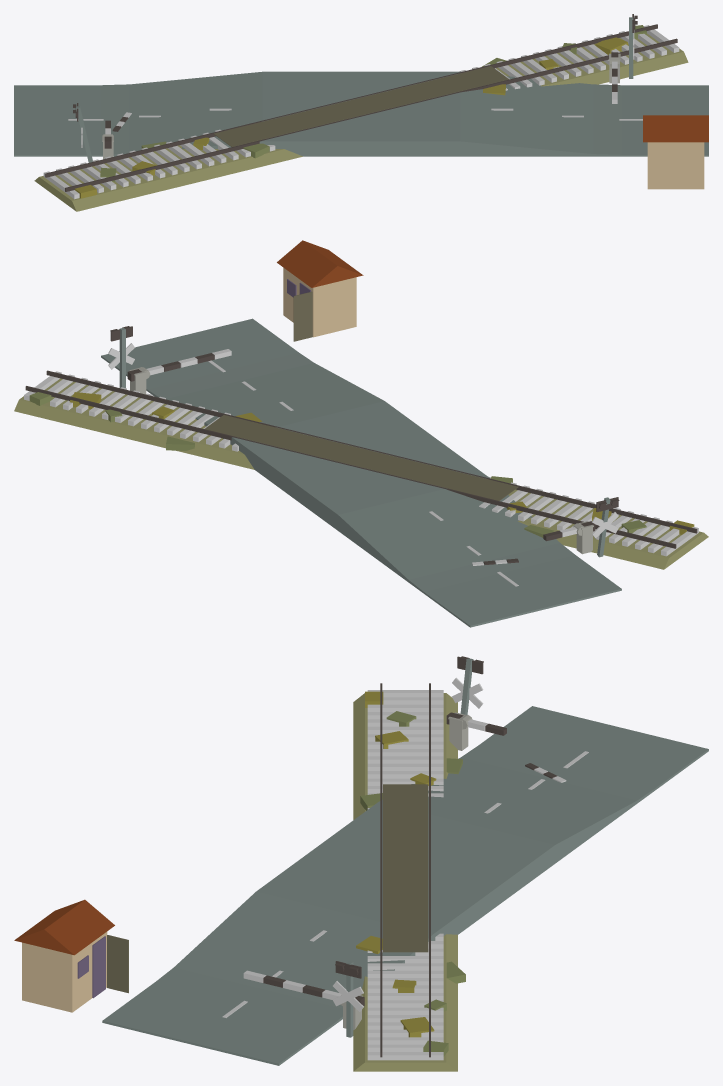
Rendered from SM_PasoNivel_30_v2_Abandonado_LOD0.fbx.
3 renders of one model, top to bottom at view 1: azimuth 30°, elevation 25°; view 2: azimuth 150°, elevation 25°; view 3: azimuth 270°, elevation 25°, orthographic. The views are drawn at different scales.
Visible parts, largest first — view 1: SM_paso_nivel_kit_v17_LOD0, Barrera_1; view 2: SM_paso_nivel_kit_v17_LOD0, Barrera_1; view 3: SM_paso_nivel_kit_v17_LOD0, Barrera_1.
Part boxes in pixels (<box>): SM_paso_nivel_kit_v17_LOD0: <box>14,14,708,211</box>; Barrera_1: <box>610,52,619,103</box>; SM_paso_nivel_kit_v17_LOD0: <box>14,240,708,627</box>; Barrera_1: <box>127,349,231,381</box>; SM_paso_nivel_kit_v17_LOD0: <box>14,656,708,1071</box>; Barrera_1: <box>243,970,364,1005</box>.
Size of the model in its own units: 30 by 3.04 by 23.85.
